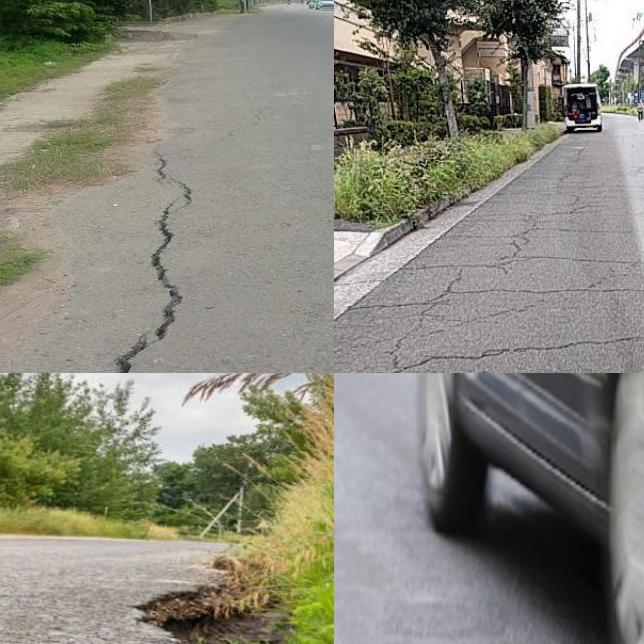Melintang: (416, 323, 644, 371)
Memanjang: (105, 146, 208, 373)
